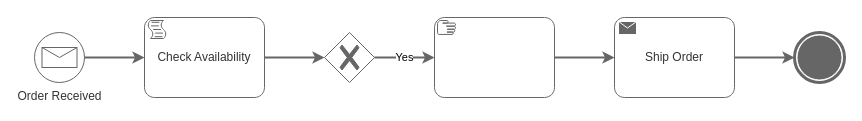
Some shapes in this 862 by 121 pixel diagram are drawn without their labels. Here are the shapes that lost their labels. From the top down, the centre of each, then its label:
pixel 349 57: In Stock?
pixel 494 57: Pack Items
